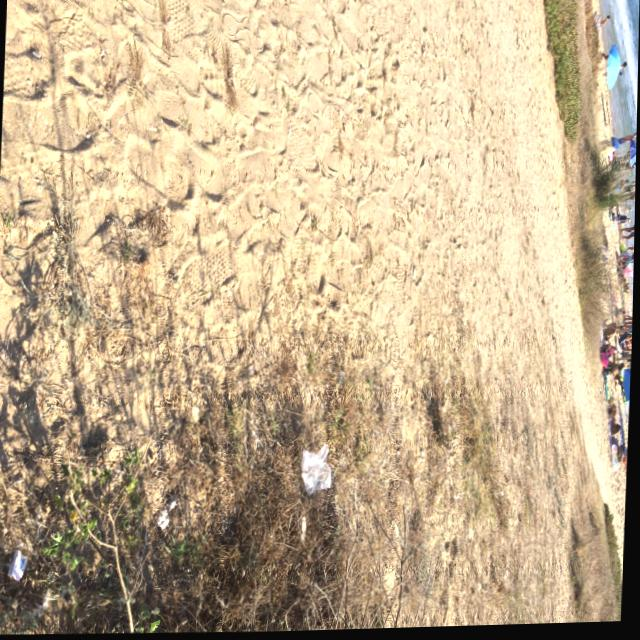Can-Metal: (0, 536, 36, 594)
Plastic: (287, 431, 345, 501)
